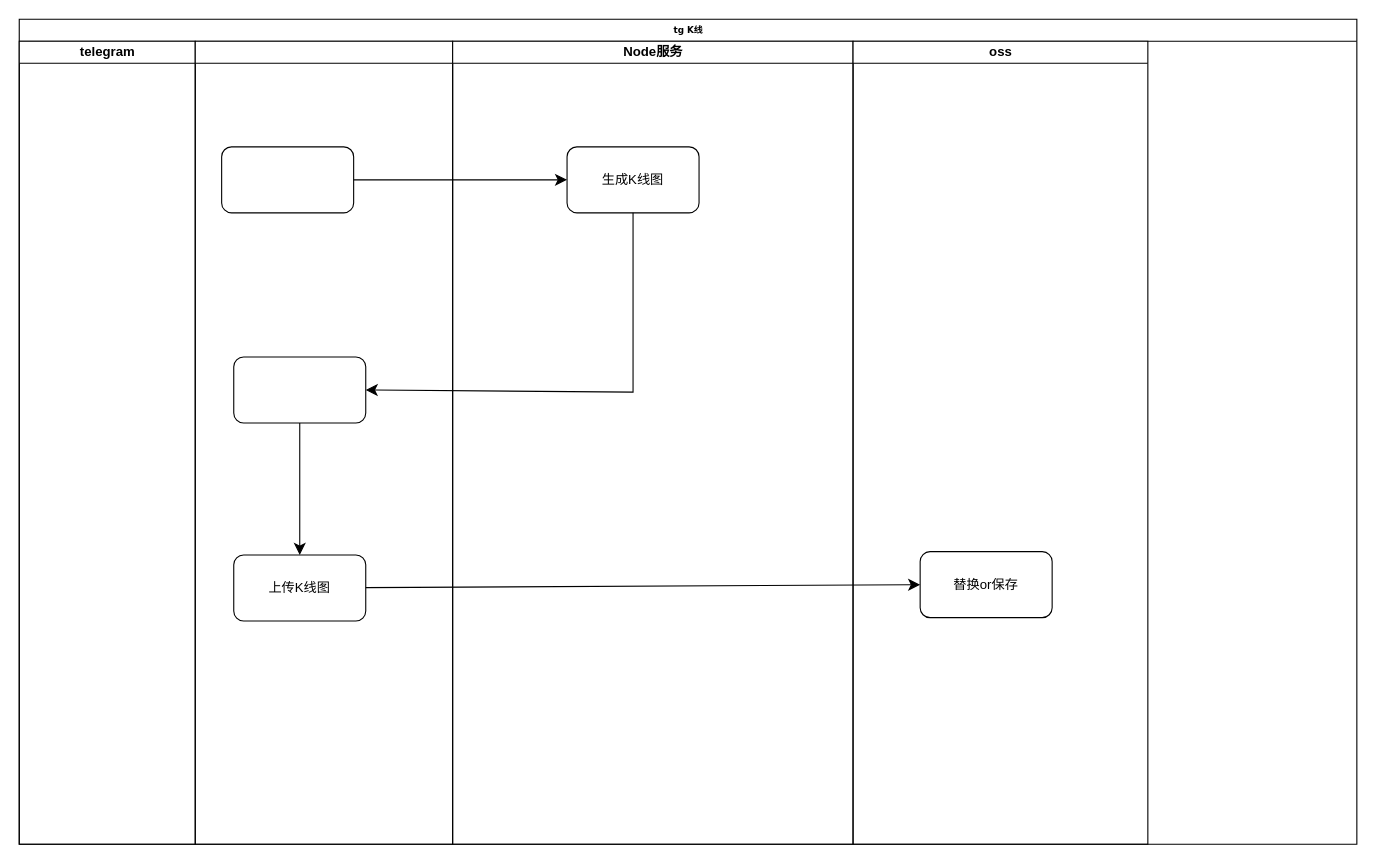
Image size: 1376x864. Some labels were removed from this diagram. Each missing label, with the box of its shape:
telegram bot: (194, 40, 453, 844)
下载K线图: (233, 356, 366, 423)
定时生成K线任务: (221, 146, 354, 213)
